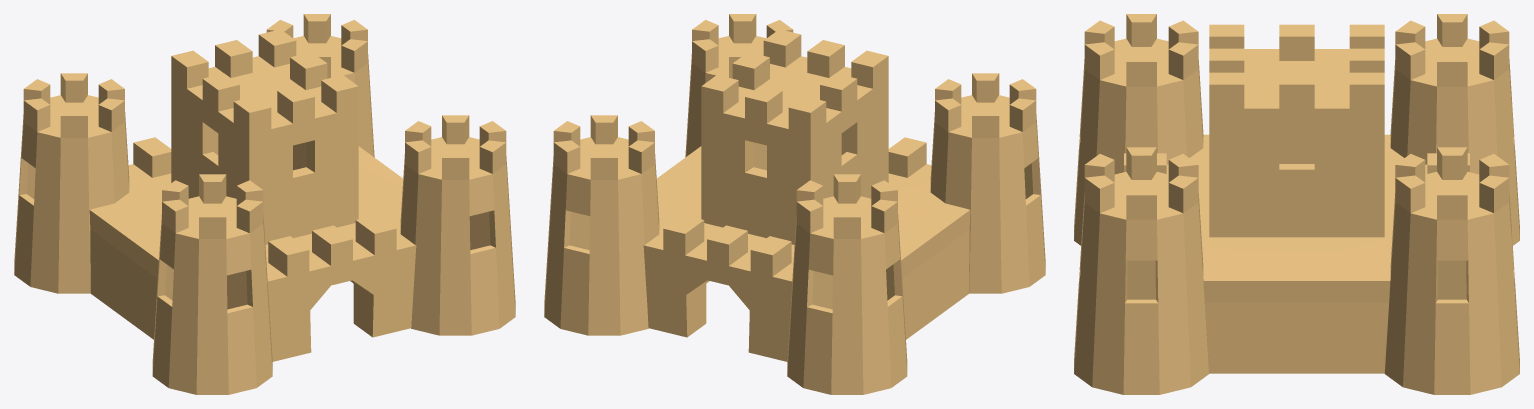
Rendered from Sand_castle_01.fbx.
The picture shows the model from 3 angles, left to right: view 1: azimuth 30°, elevation 25°; view 2: azimuth 150°, elevation 25°; view 3: azimuth 270°, elevation 25°; orthographic projection. The views are drawn at different scales.
Visible parts, largest first — view 1: Sand_castle_01; view 2: Sand_castle_01; view 3: Sand_castle_01.
Part boxes in pixels (bbox=[...]): Sand_castle_01: bbox=[14, 14, 515, 394]; Sand_castle_01: bbox=[544, 14, 1045, 394]; Sand_castle_01: bbox=[1074, 14, 1519, 394].
Size of the model in its own units: 61.48 by 36.95 by 60.86.
